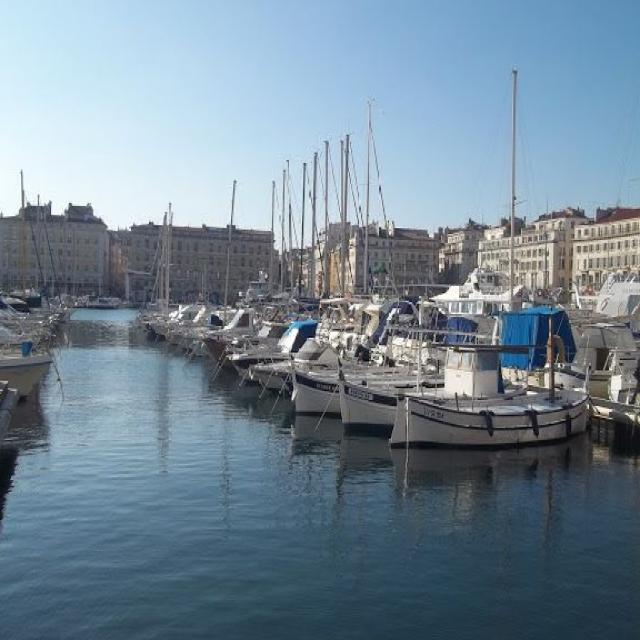houseboat: (395, 347, 602, 459)
